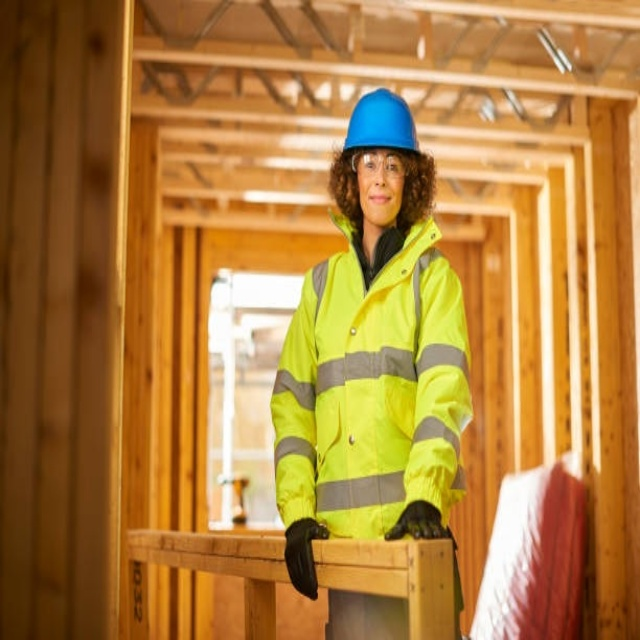Gafas: (353, 153, 408, 178)
Guantes: (284, 519, 329, 600), (384, 499, 448, 542)
Sin_mascara: (365, 190, 391, 220)
